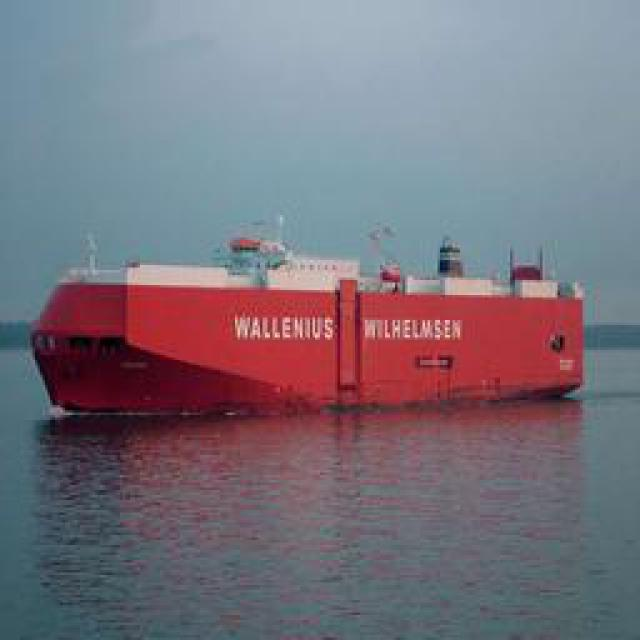Ship: (27, 231, 610, 419)
